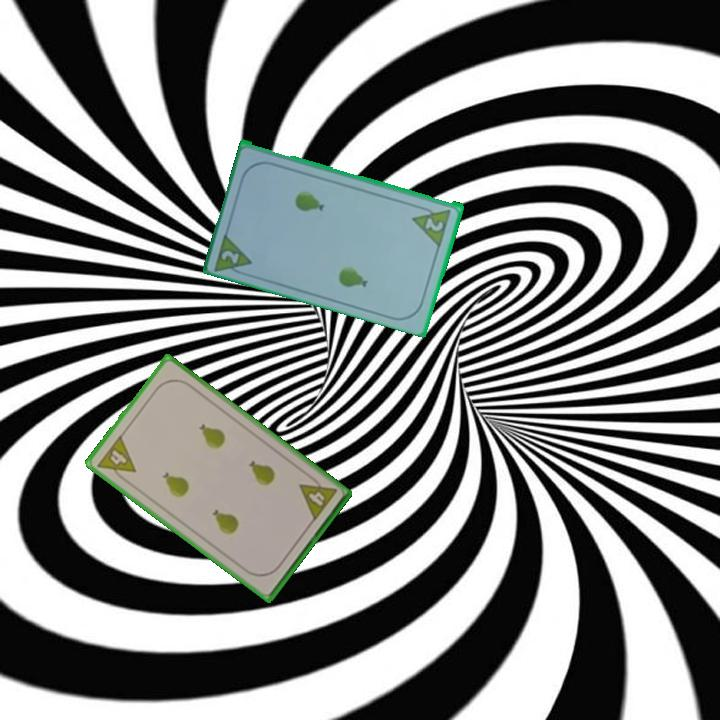2p: (211, 228, 256, 279), (422, 214, 447, 234)
4p: (93, 431, 139, 486), (296, 471, 340, 524)
